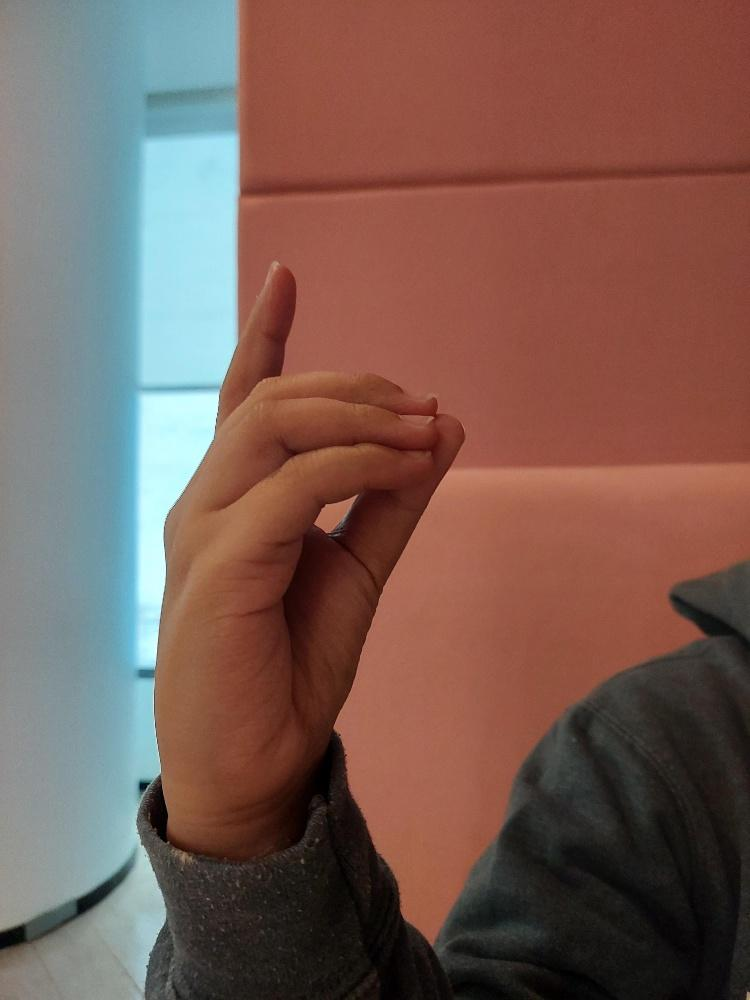d: (147, 252, 476, 822)
